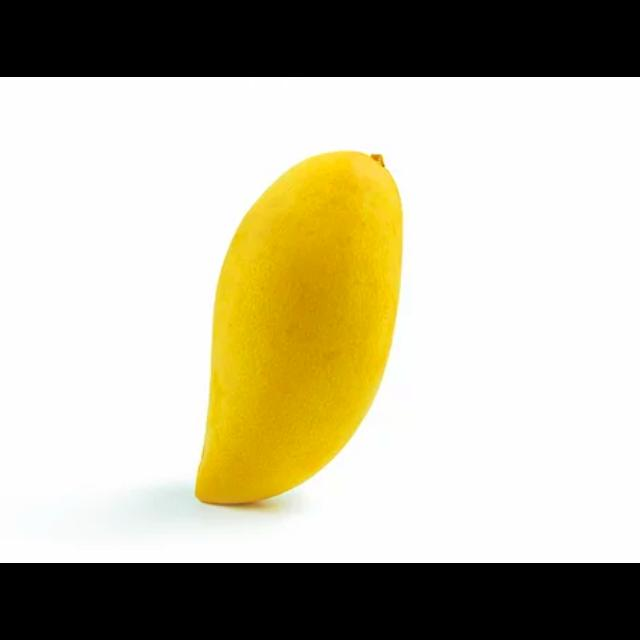mango: (196, 150, 408, 508)
